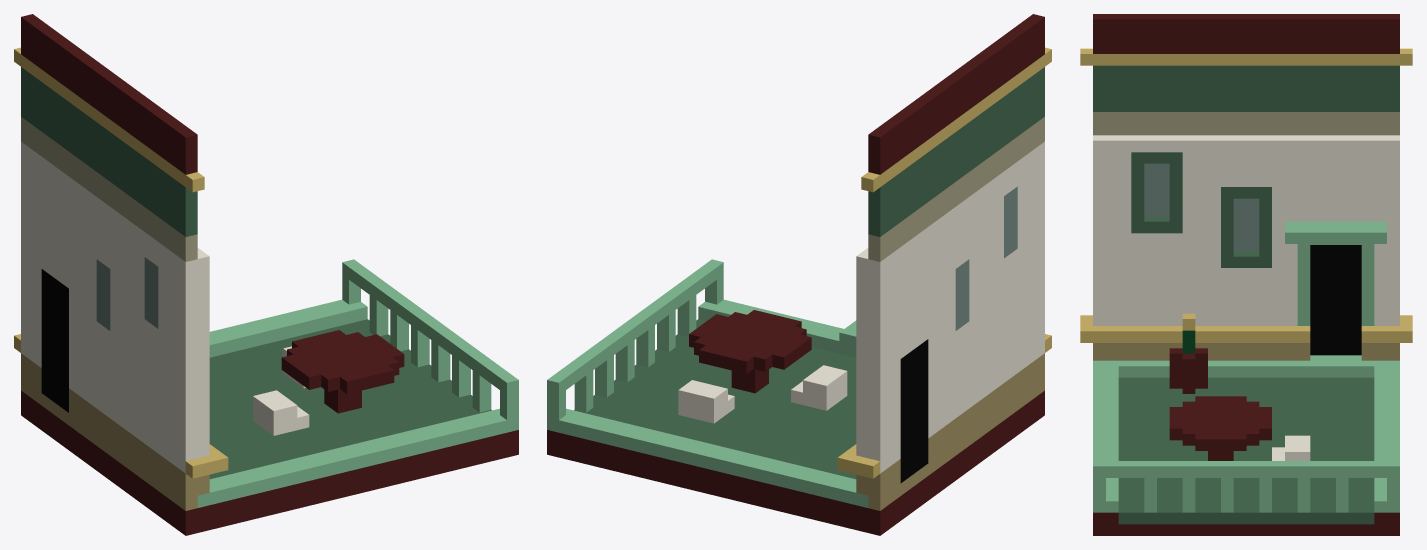
File: tile_3_left_nr.obj
3 views of the same model, side by side, from view 1: azimuth 30°, elevation 25°; view 2: azimuth 150°, elevation 25°; view 3: azimuth 270°, elevation 25° (orthographic). The views are drawn at different scales.
Bounding box in the file's own units: 2.8 × 3.2 × 2.6.
